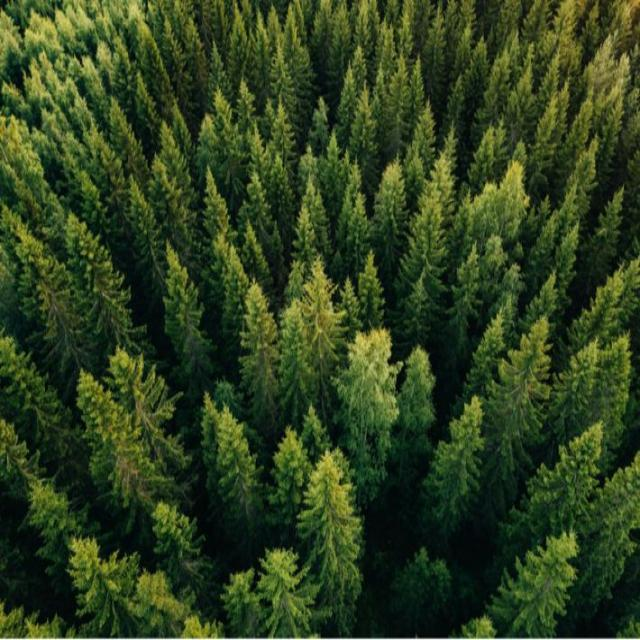sanaoubar: (87, 43, 598, 584)
